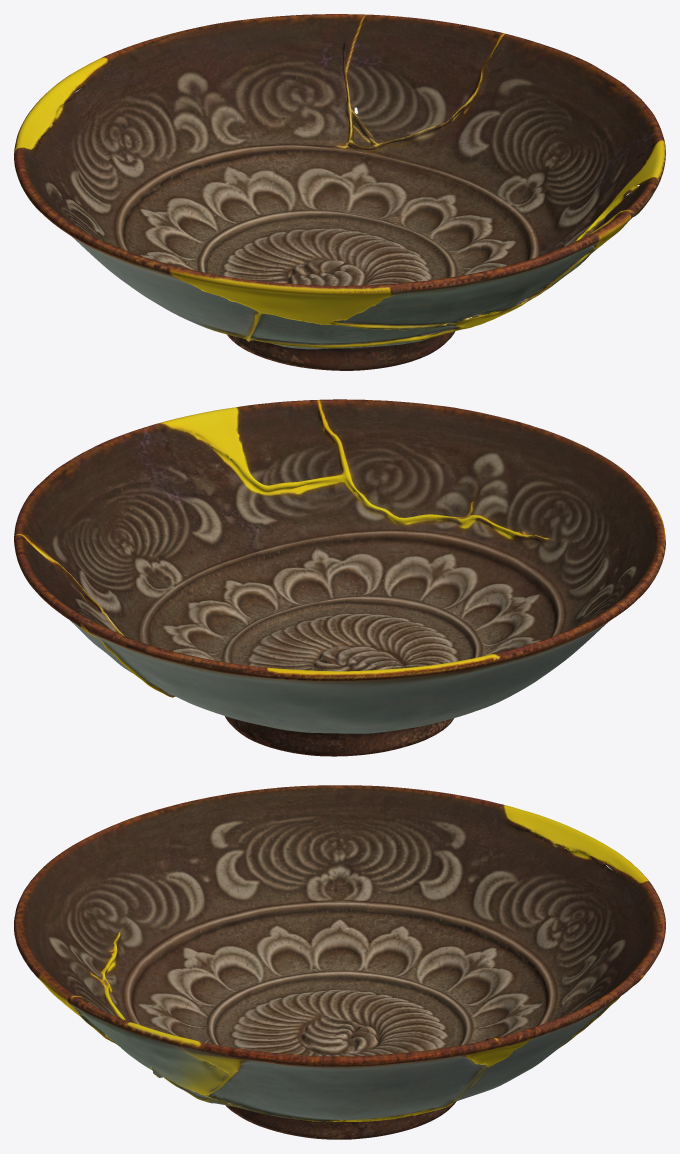
File: assets__models__kintsugi-1.glb
The picture shows the model from 3 angles, top to bottom: view 1: azimuth 30°, elevation 25°; view 2: azimuth 150°, elevation 25°; view 3: azimuth 270°, elevation 25°; orthographic projection.
Visible parts, largest first — view 1: tripo_node_36c02f7f; view 2: tripo_node_36c02f7f; view 3: tripo_node_36c02f7f.
Part boxes in pixels (box(x1,y1,x2,y2)): tripo_node_36c02f7f: box(14, 14, 665, 370); tripo_node_36c02f7f: box(14, 399, 665, 756); tripo_node_36c02f7f: box(14, 785, 665, 1139).
Bounding box in the file's own units: 97.9 × 28.36 × 97.9.
Materials: 1 (1 with a texture image).
